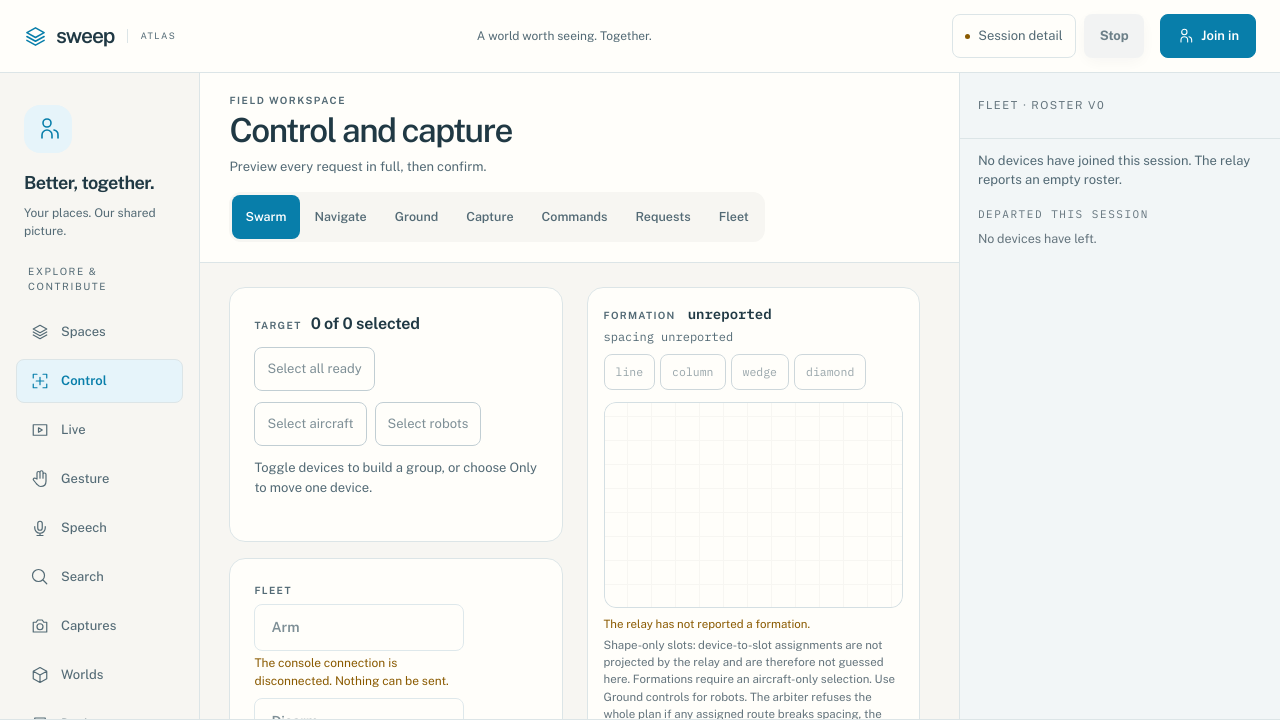
Control / Capture console › is honestly disconnected when no production relay bootstrap exists
This screenshot has width=1280, height=720.
Expected: the text "0 of 0 selected" is shown, left=311, top=312, right=420, bottom=336
Expected: the button with aria-label "Network stop" is disabled, left=1084, top=14, right=1144, bottom=58
Step 1. Click the button "Session detail" → (1014, 36), box left=952, top=14, right=1076, bottom=58
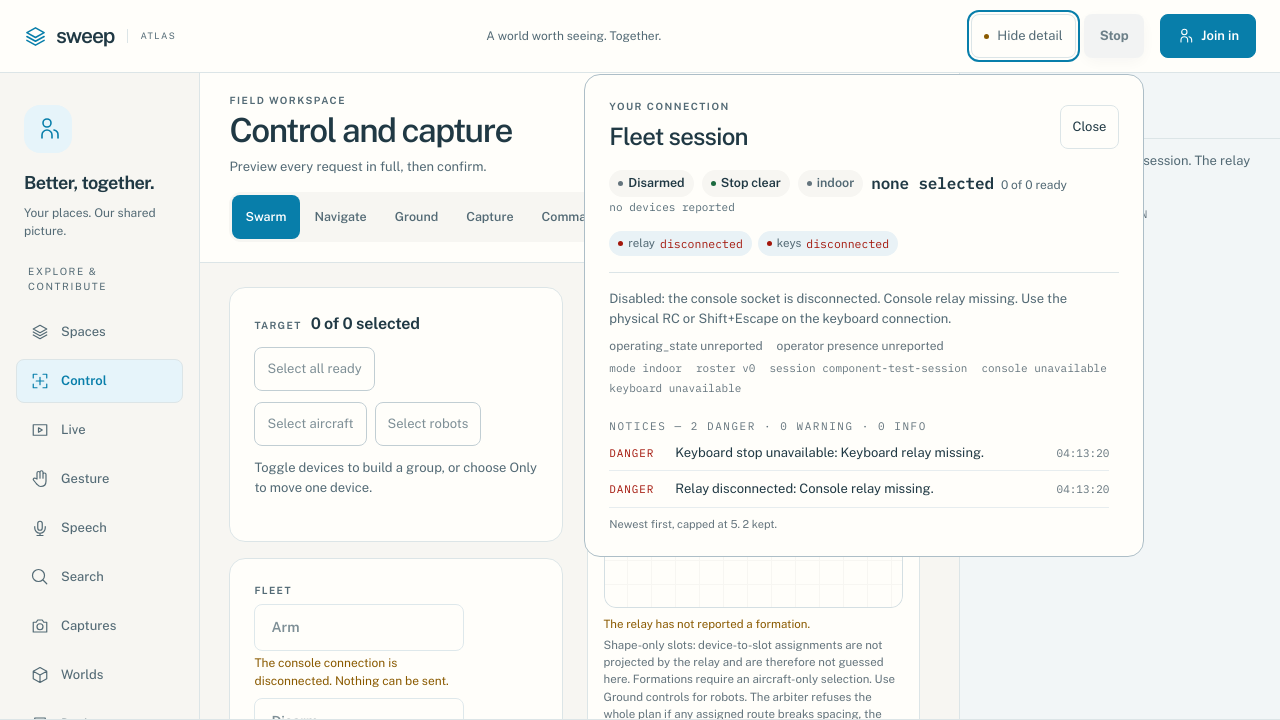
Result: the element named "Session detail" shows "Console relay missing." at left=799, top=481, right=934, bottom=496
